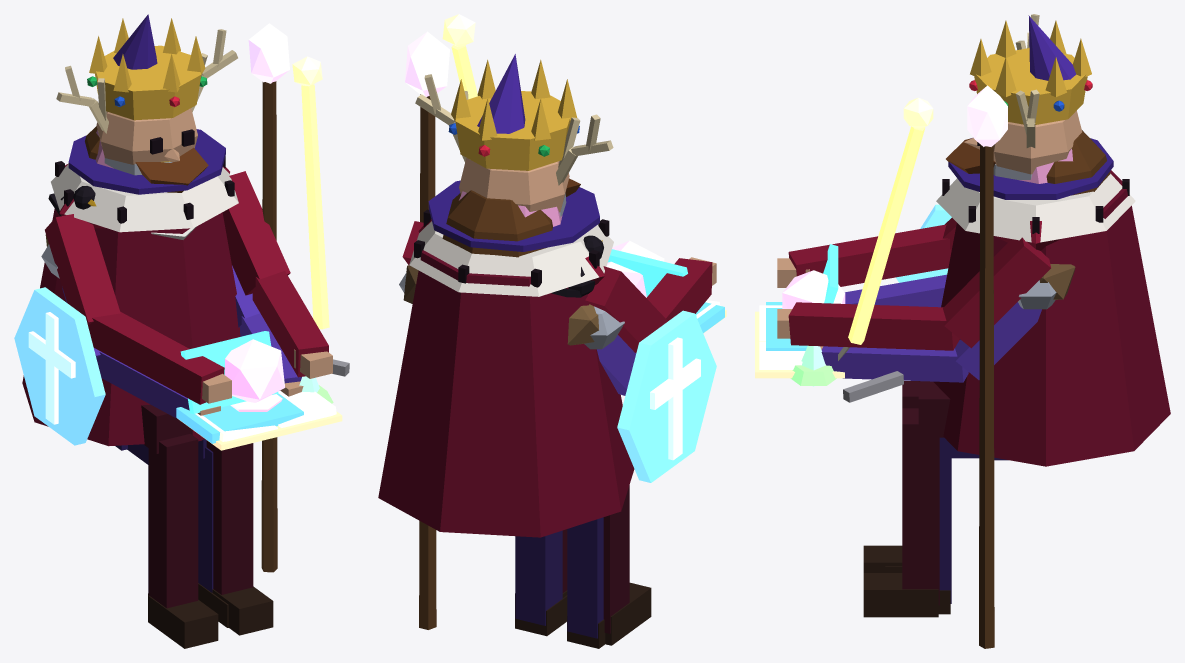
The model's file is raad.glb.
3 renders of one model, left to right at view 1: azimuth 30°, elevation 25°; view 2: azimuth 150°, elevation 25°; view 3: azimuth 270°, elevation 25°, orthographic. The views are drawn at different scales.
Parts seen in each view (by area): view 1: koning_lijf, archmage_lijf, guardian_keeper_voorwerp, koning_voorwerp, engineer_voorwerp, oracle_voorwerp, historian_voorwerp, beast_master_lijf, archmage_voorwerp, guardian_keeper_lijf; view 2: koning_lijf, archmage_lijf, guardian_keeper_voorwerp, beast_master_lijf, historian_lijf, archmage_voorwerp, engineer_voorwerp, koning_voorwerp, guardian_keeper_lijf, oracle_voorwerp; view 3: koning_lijf, archmage_lijf, koning_voorwerp, archmage_voorwerp, historian_lijf, historian_voorwerp, beast_master_lijf, engineer_voorwerp, oracle_voorwerp, beast_master_voorwerp, guardian_keeper_lijf, engineer_lijf (+1 smaller).
Part boxes in pixels (bbox=[...]): koning_lijf: bbox=[22, 18, 332, 648]; archmage_lijf: bbox=[62, 14, 303, 627]; guardian_keeper_voorwerp: bbox=[14, 287, 105, 445]; koning_voorwerp: bbox=[292, 56, 329, 329]; engineer_voorwerp: bbox=[176, 331, 303, 443]; oracle_voorwerp: bbox=[225, 339, 285, 411]; historian_voorwerp: bbox=[177, 390, 342, 450]; beast_master_lijf: bbox=[45, 29, 237, 246]; archmage_voorwerp: bbox=[248, 23, 289, 83]; guardian_keeper_lijf: bbox=[41, 158, 172, 278]; koning_lijf: bbox=[378, 59, 716, 645]; archmage_lijf: bbox=[419, 54, 636, 648]; guardian_keeper_voorwerp: bbox=[617, 310, 716, 482]; beast_master_lijf: bbox=[403, 74, 613, 345]; historian_lijf: bbox=[442, 190, 552, 257]; archmage_voorwerp: bbox=[405, 31, 449, 96]; engineer_voorwerp: bbox=[608, 249, 724, 333]; koning_voorwerp: bbox=[442, 14, 477, 99]; guardian_keeper_lijf: bbox=[399, 193, 624, 349]; oracle_voorwerp: bbox=[606, 240, 664, 297]; koning_lijf: bbox=[777, 20, 1170, 617]; archmage_lijf: bbox=[820, 15, 1113, 648]; koning_voorwerp: bbox=[848, 97, 933, 344]; archmage_voorwerp: bbox=[967, 85, 1007, 146]; historian_lijf: bbox=[838, 130, 1110, 360]; historian_voorwerp: bbox=[755, 305, 844, 378]; beast_master_lijf: bbox=[1015, 14, 1075, 299]; engineer_voorwerp: bbox=[766, 244, 838, 350]; oracle_voorwerp: bbox=[782, 270, 845, 308]; beast_master_voorwerp: bbox=[790, 345, 836, 386]; guardian_keeper_lijf: bbox=[993, 164, 1056, 309]; engineer_lijf: bbox=[843, 371, 903, 402].
Size of the model in its own units: 1.32 by 2.94 by 1.91.
